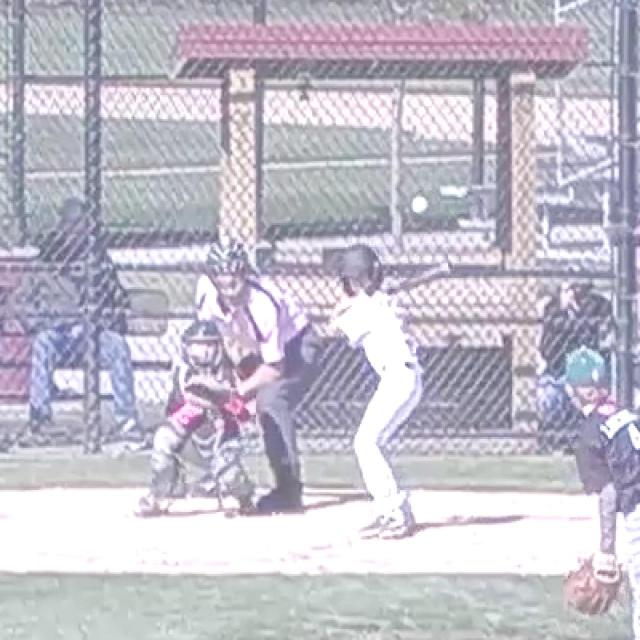baseball: (412, 198, 428, 212)
